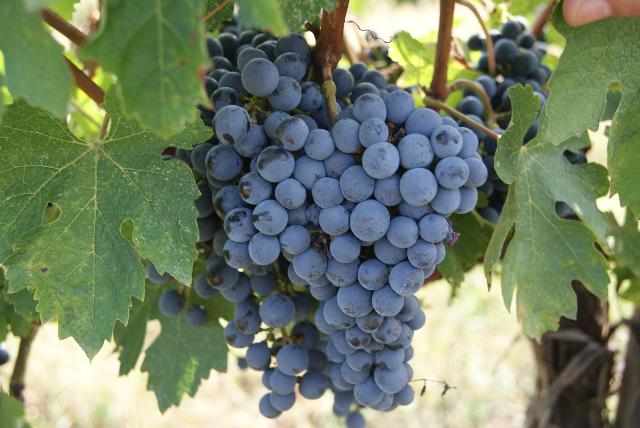grapes: (194, 65, 494, 425), (476, 20, 552, 132), (480, 136, 509, 221), (459, 90, 480, 119)
